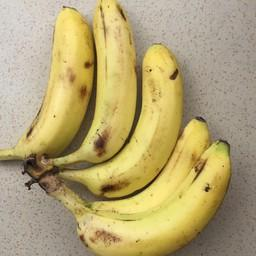Banana Ripe: (28, 141, 249, 256), (41, 40, 182, 212), (0, 5, 98, 176), (59, 110, 212, 212), (54, 0, 132, 199)
